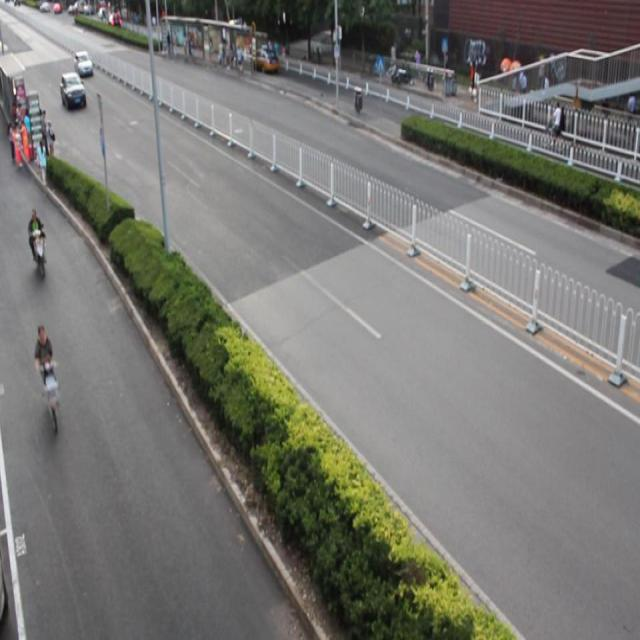car: (250, 44, 278, 76)
